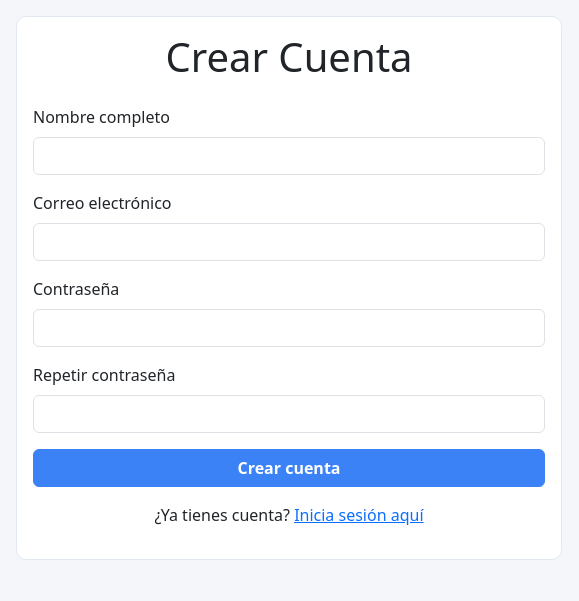
Test: Registro › detecta contraseñas que no coinciden
This screenshot has width=579, height=601.
Type "Ana" into the field labelled "Nombre completo". click: (289, 156)
box: [33, 137, 545, 175]
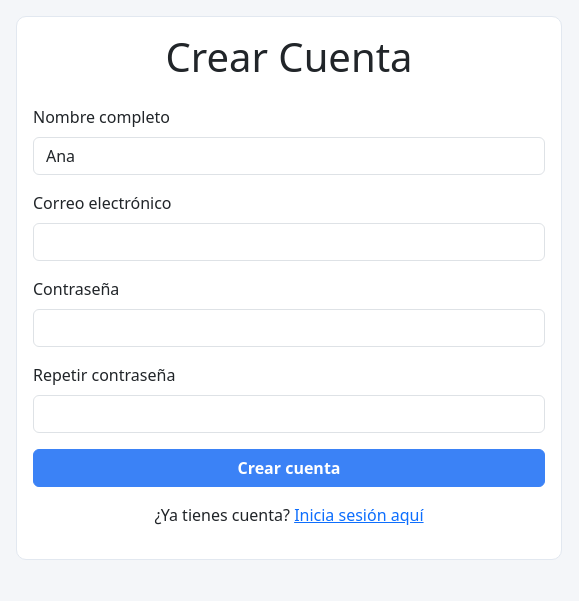
Type "ana@gmail.com" into the field labelled "Correo electrónico". click: (289, 242)
box: [33, 223, 545, 261]
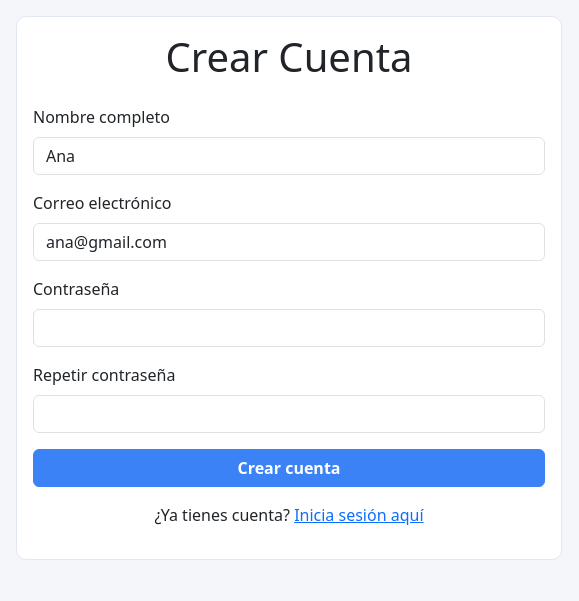
Type "1234" into the password field labelled "Contraseña". click: (289, 328)
box: [33, 309, 545, 347]
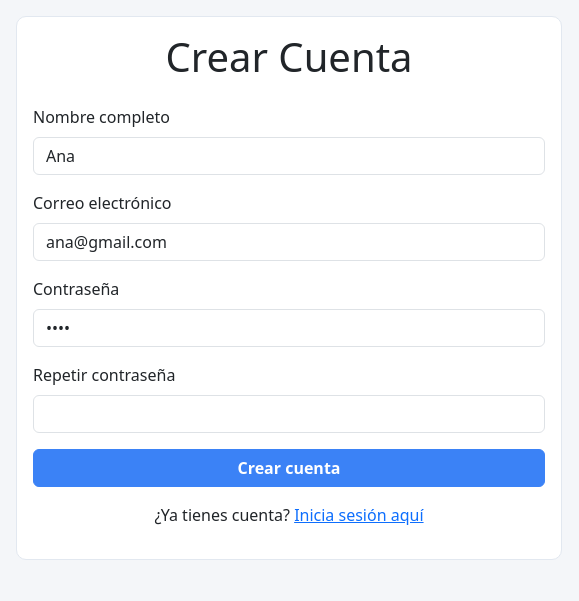
Type "9999" into the password field labelled "Repetir contraseña". click: (289, 414)
box: [33, 395, 545, 433]
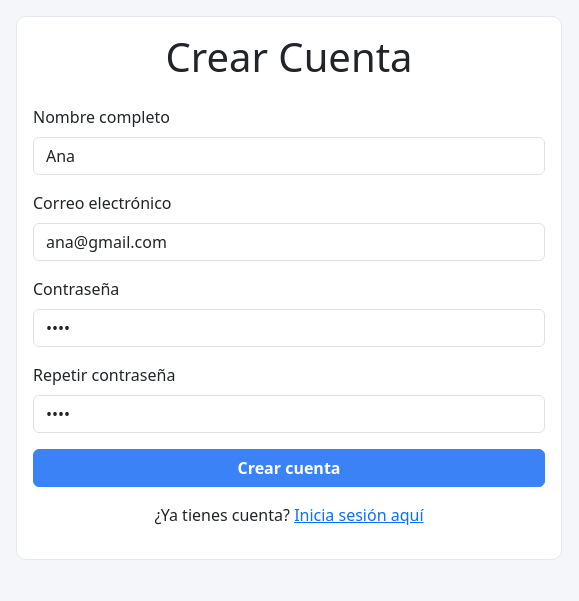
Submit the text "Crear cuenta", box [33, 105, 545, 487]
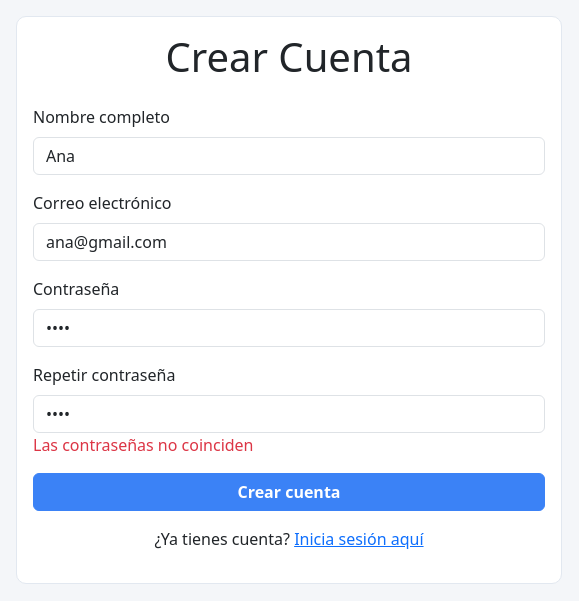
expect the text "Las contraseñas no coinciden" is shown: met, box [33, 434, 254, 456]
